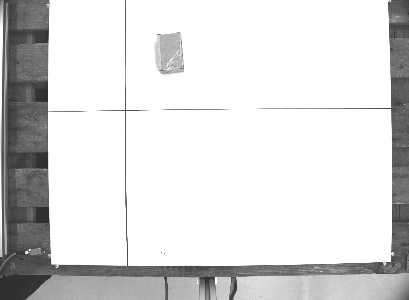b1: (154, 30, 187, 76)
